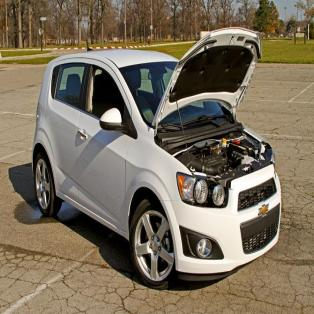Auto: (31, 26, 281, 290)
